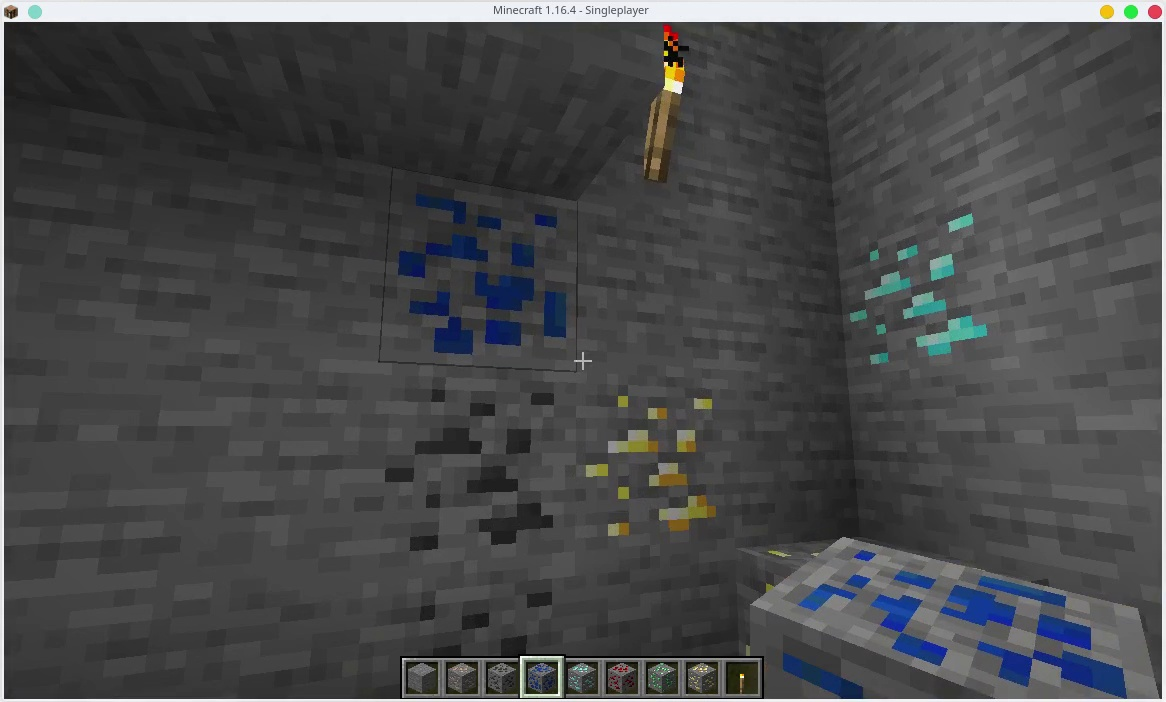gold: (585, 378, 725, 535), (737, 536, 794, 580), (686, 664, 715, 693)
